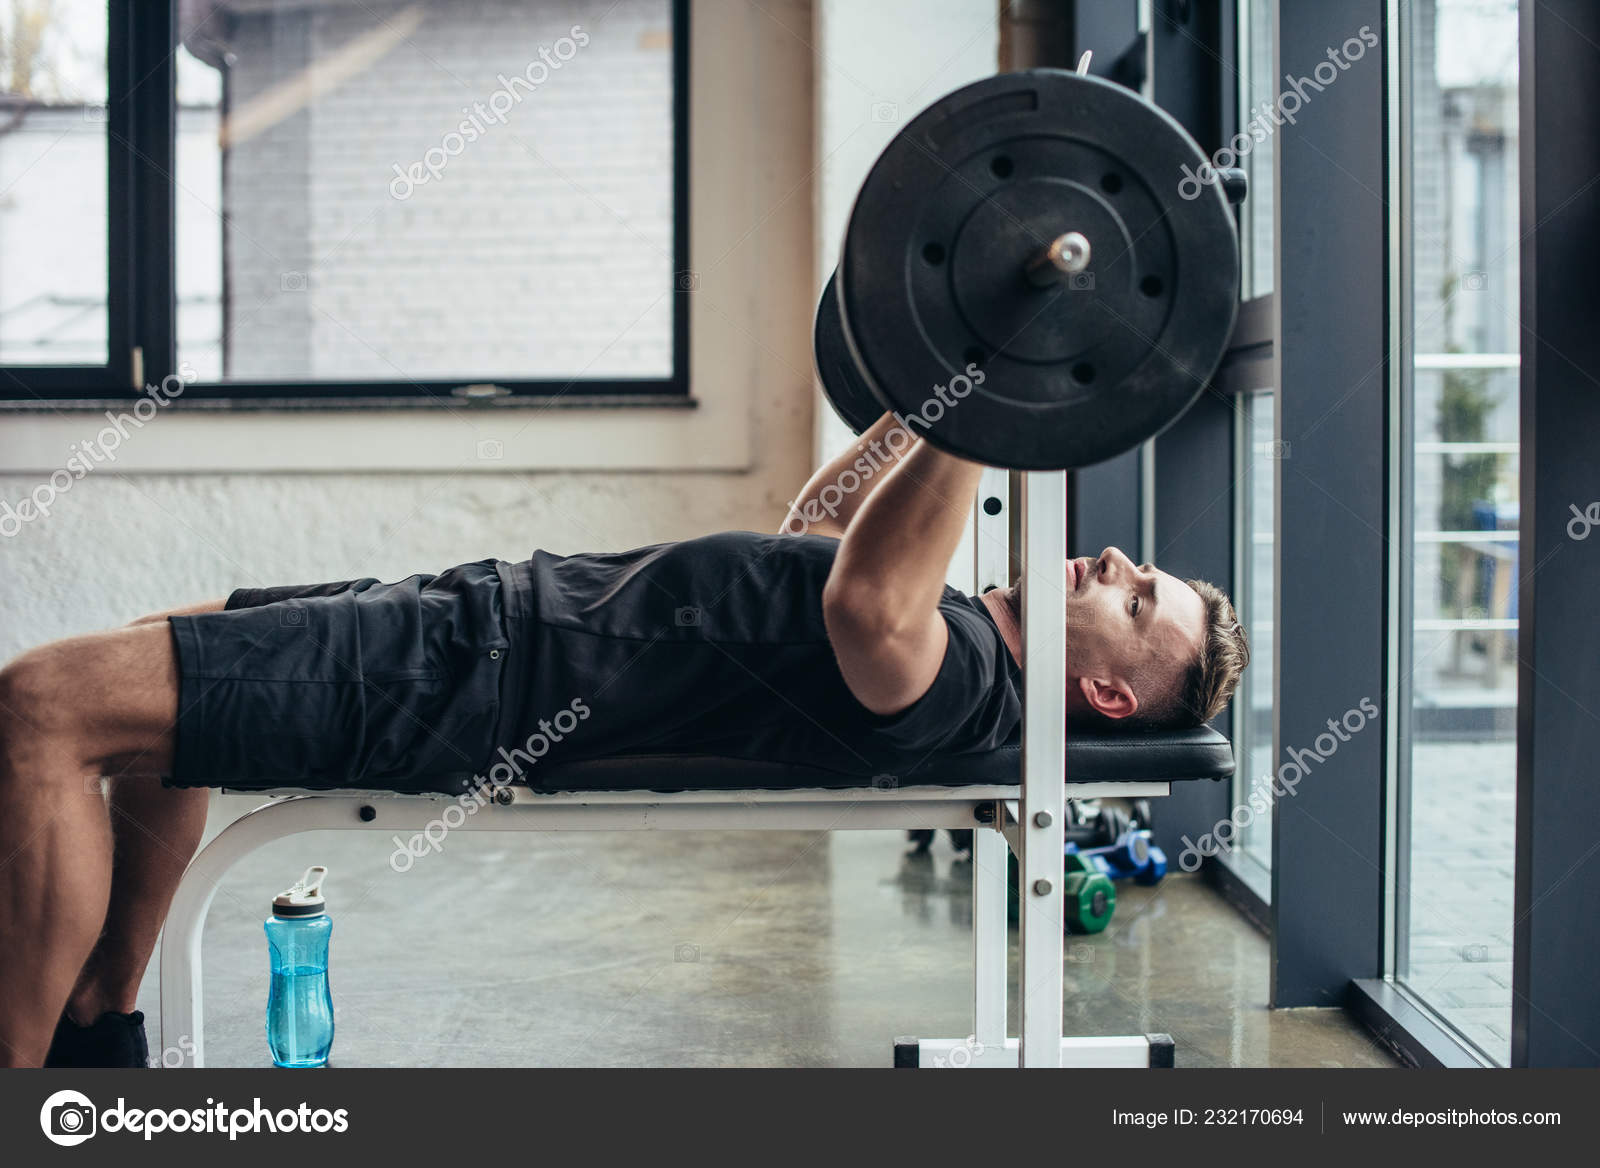barbell: (835, 62, 1253, 478)
